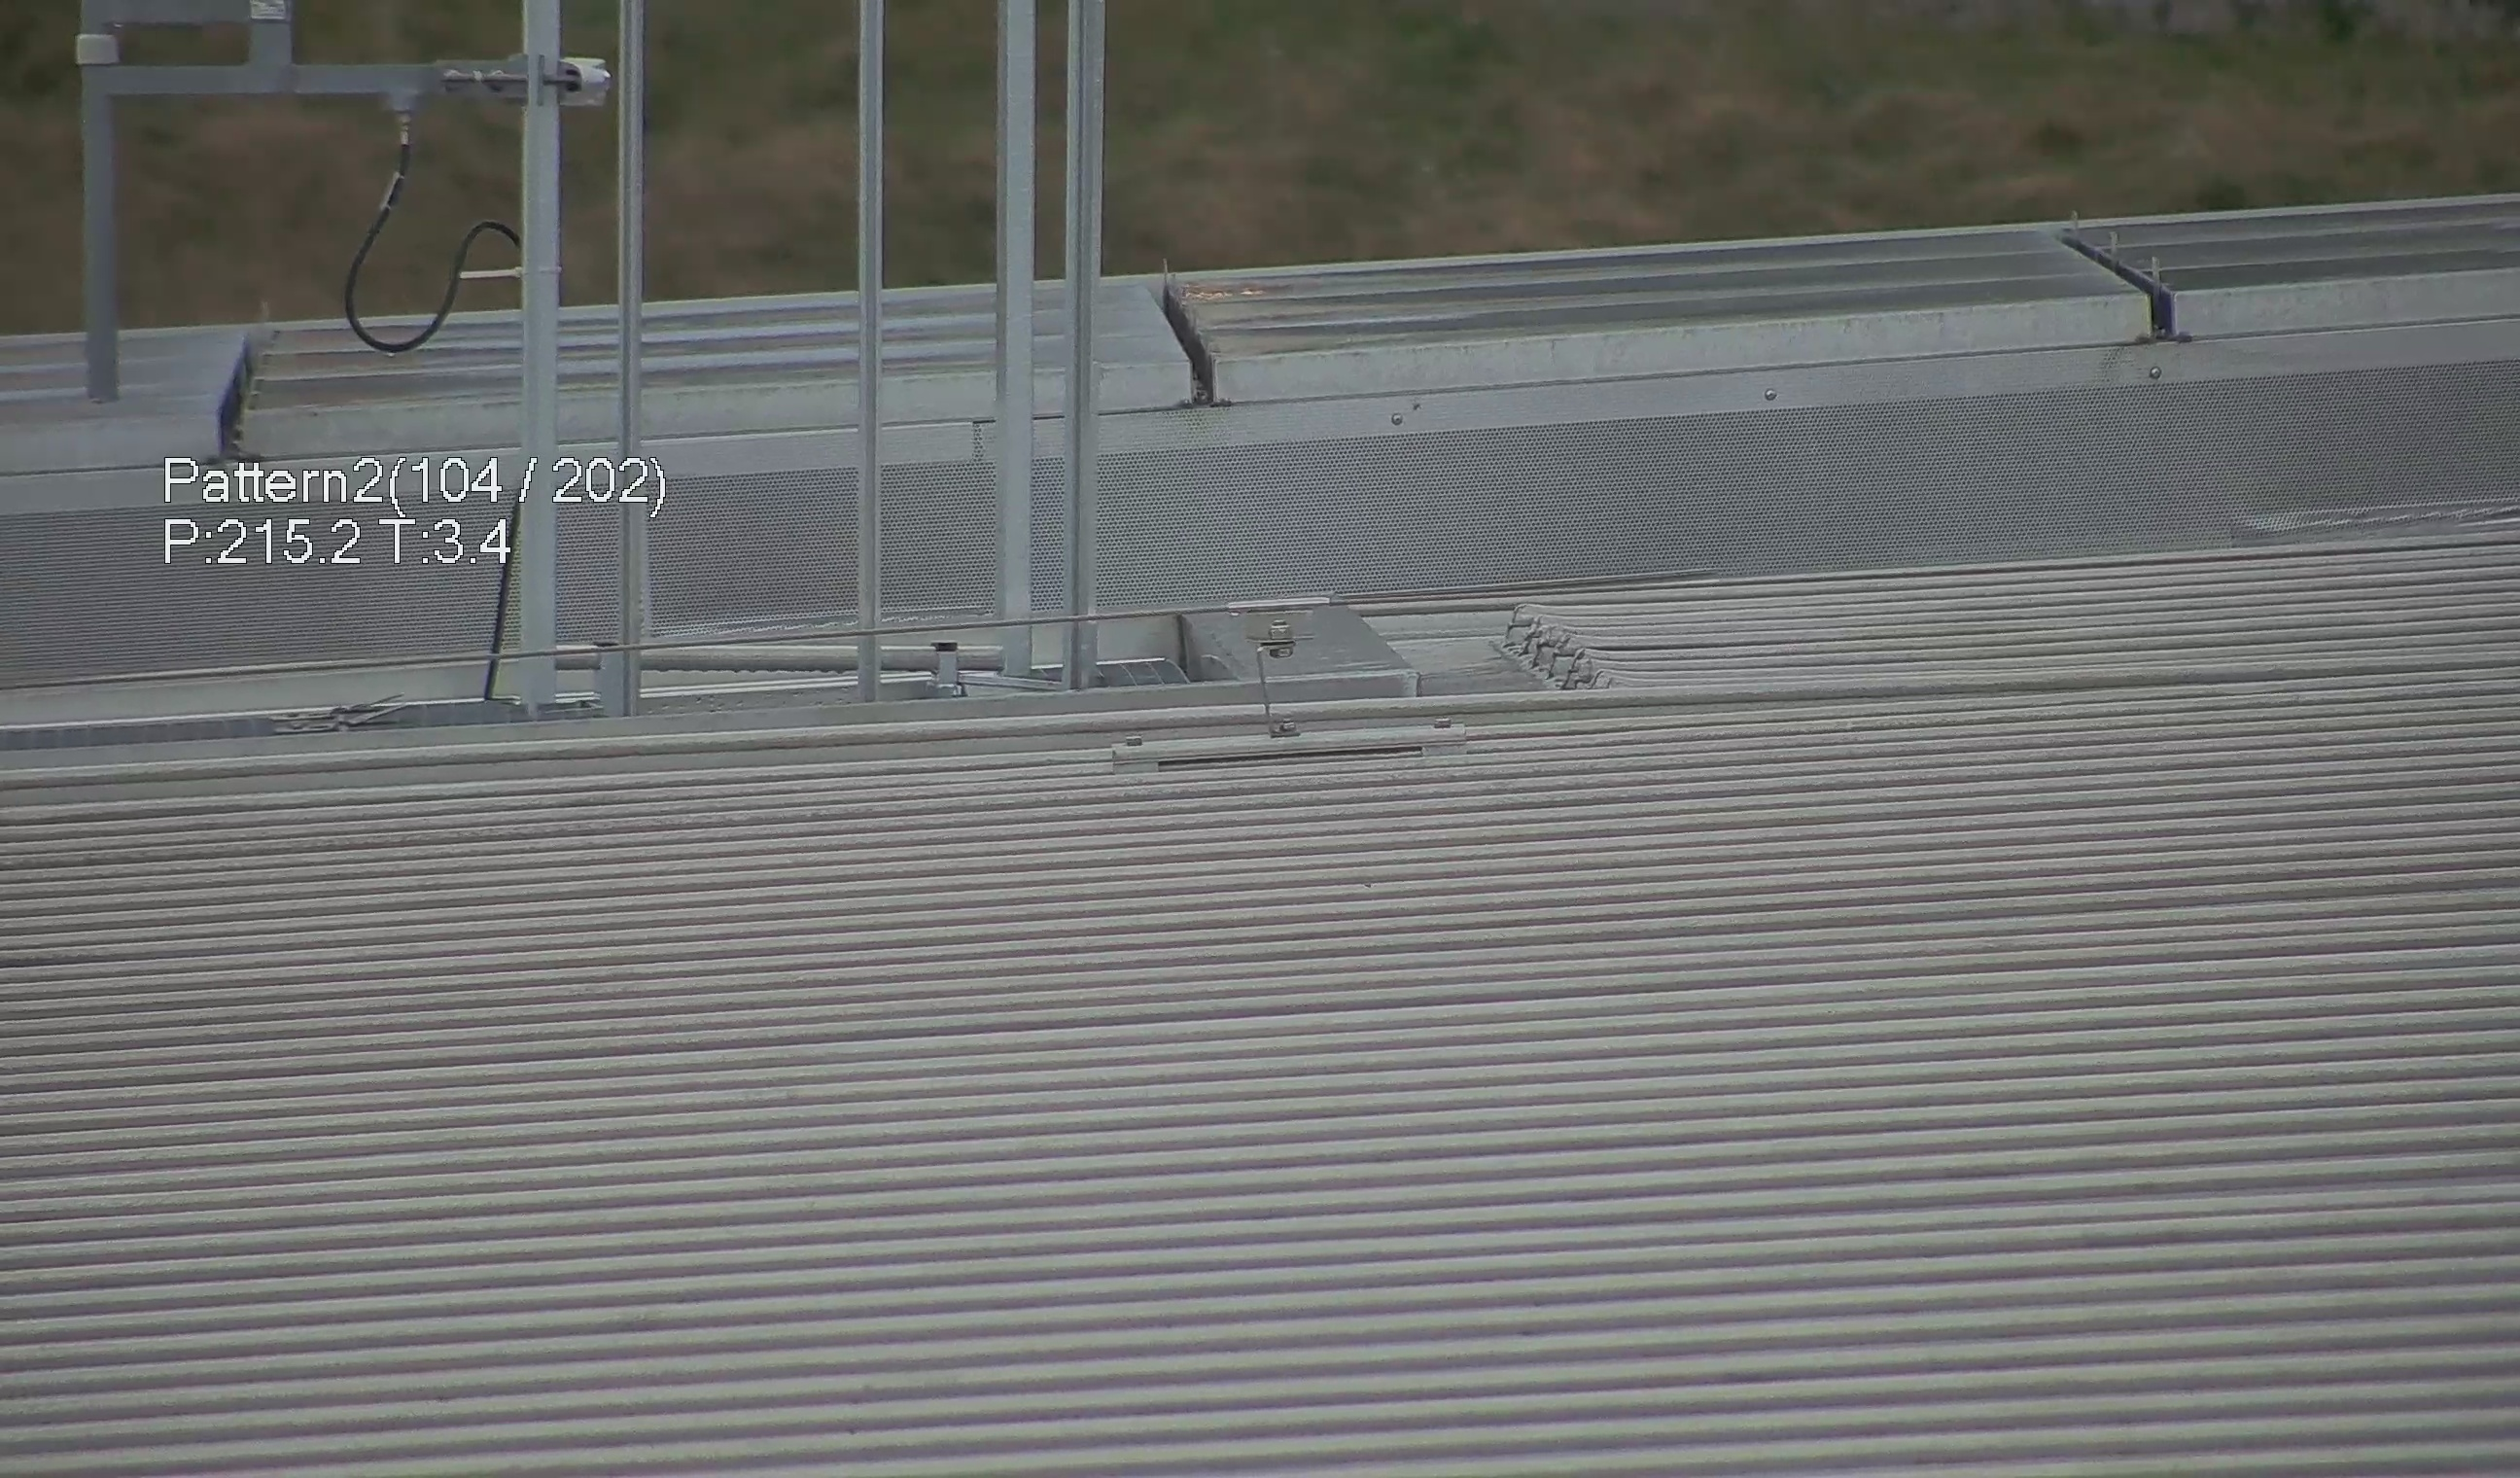Other: (1140, 267, 1238, 408)
